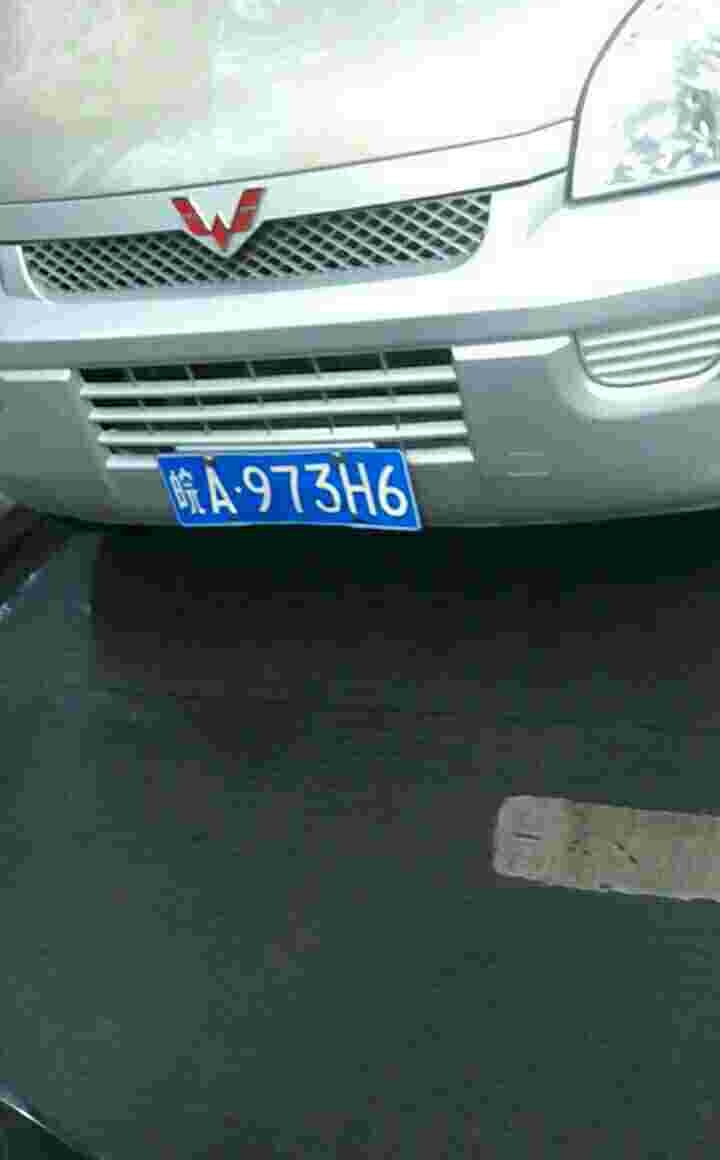license_plate: (157, 441, 434, 536)
